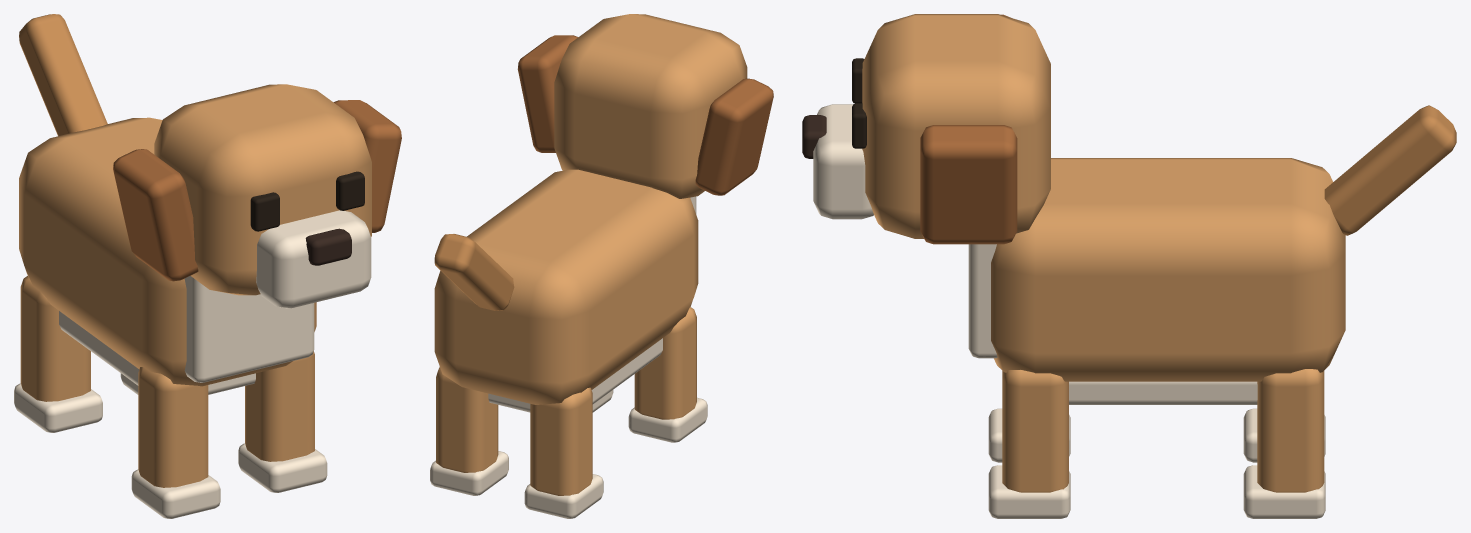
The model's file is base-dog-standing.glb.
The picture shows the model from 3 angles, left to right: view 1: azimuth 30°, elevation 25°; view 2: azimuth 150°, elevation 25°; view 3: azimuth 270°, elevation 25°; orthographic projection. The views are drawn at different scales.
Parts seen in each view (by area): view 1: PM_FUR_MAIN_0_76_0, PM_FUR_MAIN_0_128_68, PM_FUR_SECONDARY_0_78_58, PM_FUR_SECONDARY_0_115_104, PM_EARS_-41_126_64, PM_FUR_MAIN_-22_30_42, PM_FUR_MAIN_22_30_42, PM_TAIL_0_112_-74, PM_FUR_MAIN_-22_30_-42, PM_EARS_41_126_64, PM_FUR_SECONDARY_-22_6_44, PM_FUR_SECONDARY_22_6_44 (+5 smaller); view 2: PM_FUR_MAIN_0_76_0, PM_FUR_MAIN_0_128_68, PM_EARS_-41_126_64, PM_FUR_MAIN_-22_30_-42, PM_FUR_MAIN_22_30_-42, PM_FUR_MAIN_-22_30_42, PM_TAIL_0_112_-74, PM_EARS_41_126_64, PM_FUR_SECONDARY_-22_6_-40, PM_FUR_SECONDARY_-22_6_44, PM_FUR_SECONDARY_22_6_-40, PM_FUR_SECONDARY_0_44_0; view 3: PM_FUR_MAIN_0_76_0, PM_FUR_MAIN_0_128_68, PM_EARS_41_126_64, PM_FUR_MAIN_22_30_-42, PM_FUR_MAIN_22_30_42, PM_TAIL_0_112_-74, PM_FUR_SECONDARY_0_115_104, PM_FUR_SECONDARY_0_44_0, PM_FUR_SECONDARY_0_78_58, PM_FUR_SECONDARY_22_6_44, PM_FUR_SECONDARY_22_6_-40, PM_FUR_SECONDARY_-22_6_44 (+2 smaller).
Boxes of the visible parts, x1,y1,x2,y2 form: PM_FUR_MAIN_0_76_0: (19, 117, 316, 386); PM_FUR_MAIN_0_128_68: (154, 84, 371, 295); PM_FUR_SECONDARY_0_78_58: (184, 276, 314, 382); PM_FUR_SECONDARY_0_115_104: (256, 210, 371, 308); PM_EARS_-41_126_64: (113, 149, 198, 281); PM_FUR_MAIN_-22_30_42: (138, 367, 208, 487); PM_FUR_MAIN_22_30_42: (245, 351, 314, 461); PM_TAIL_0_112_-74: (19, 14, 107, 136); PM_FUR_MAIN_-22_30_-42: (20, 276, 90, 401); PM_EARS_41_126_64: (333, 100, 401, 232); PM_FUR_SECONDARY_-22_6_44: (131, 469, 220, 518); PM_FUR_SECONDARY_22_6_44: (238, 443, 327, 492); PM_FUR_MAIN_0_76_0: (434, 169, 698, 404); PM_FUR_MAIN_0_128_68: (554, 14, 747, 198); PM_EARS_-41_126_64: (695, 78, 773, 195); PM_FUR_MAIN_-22_30_-42: (530, 387, 592, 495); PM_FUR_MAIN_22_30_-42: (436, 367, 498, 472); PM_FUR_MAIN_-22_30_42: (634, 307, 696, 419); PM_TAIL_0_112_-74: (434, 234, 514, 310); PM_EARS_41_126_64: (517, 35, 577, 152); PM_FUR_SECONDARY_-22_6_-40: (524, 474, 603, 518); PM_FUR_SECONDARY_-22_6_44: (628, 397, 707, 442); PM_FUR_SECONDARY_22_6_-40: (430, 451, 508, 495); PM_FUR_SECONDARY_0_44_0: (488, 338, 662, 412); PM_FUR_MAIN_0_76_0: (991, 158, 1345, 381); PM_FUR_MAIN_0_128_68: (862, 14, 1050, 238); PM_EARS_41_126_64: (920, 125, 1017, 244); PM_FUR_MAIN_22_30_-42: (1257, 369, 1324, 492); PM_FUR_MAIN_22_30_42: (1002, 370, 1068, 492); PM_TAIL_0_112_-74: (1324, 105, 1456, 235); PM_FUR_SECONDARY_0_115_104: (813, 104, 873, 219); PM_FUR_SECONDARY_0_44_0: (1069, 381, 1257, 404); PM_FUR_SECONDARY_0_78_58: (968, 244, 997, 358); PM_FUR_SECONDARY_22_6_44: (988, 465, 1070, 518); PM_FUR_SECONDARY_22_6_-40: (1243, 465, 1325, 518); PM_FUR_SECONDARY_-22_6_44: (988, 408, 1070, 462).
Bounding box in the file's own units: 0.1048 × 0.16 × 0.2155.
